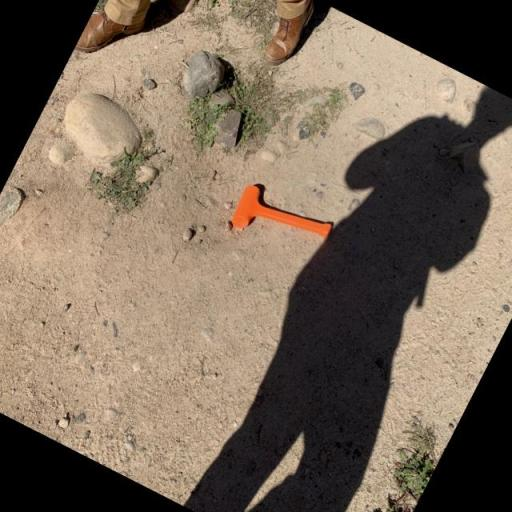mallet: (224, 176, 338, 269)
